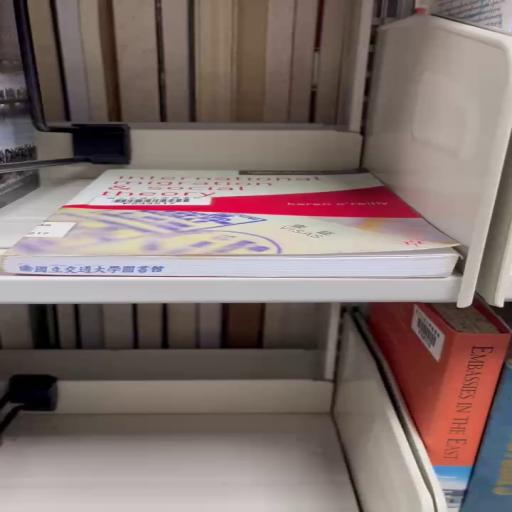flat: (1, 171, 459, 278)
